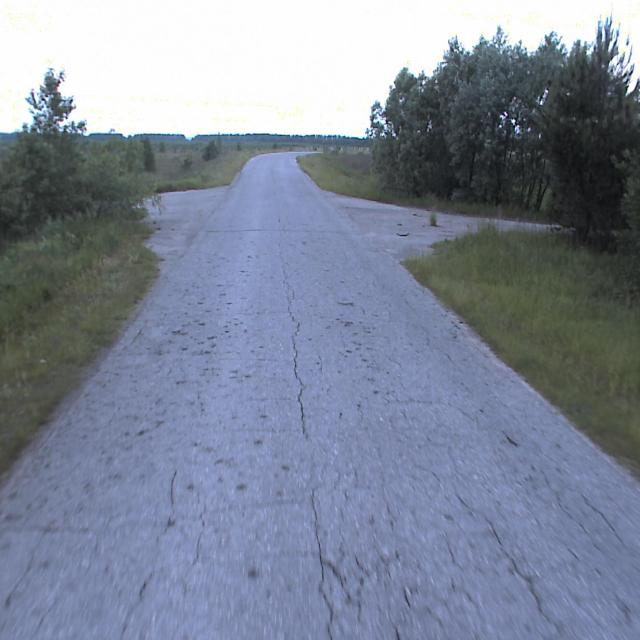road: (0, 152, 639, 639)
